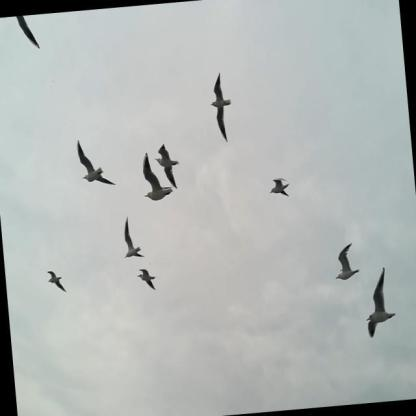bird: (362, 266, 399, 342), (76, 134, 117, 189), (208, 69, 236, 145), (140, 144, 173, 205), (152, 140, 185, 194), (331, 239, 361, 285), (120, 214, 146, 261), (269, 171, 293, 201), (135, 263, 159, 292), (44, 265, 67, 295)
